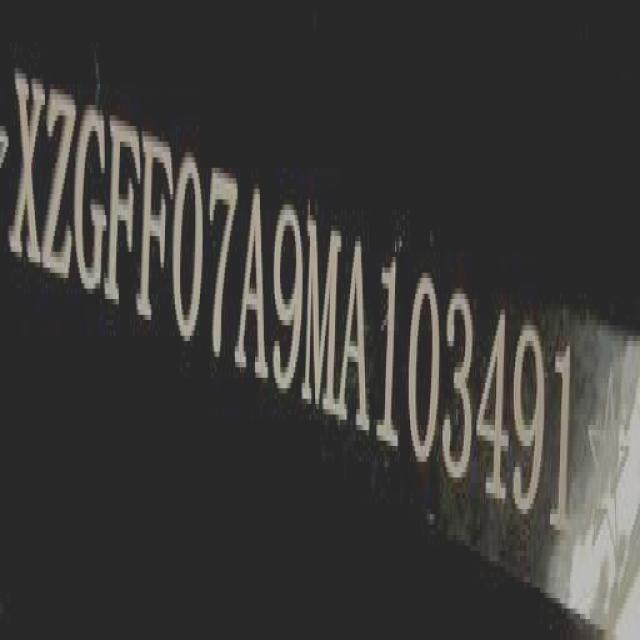0: (173, 141, 207, 356), (410, 254, 441, 476)
1: (372, 246, 404, 458), (555, 325, 575, 529)
3: (445, 272, 474, 494)
4: (477, 291, 509, 508)
7: (208, 160, 238, 378)
9: (270, 195, 304, 408), (513, 313, 546, 522)
A: (342, 222, 372, 445), (239, 170, 268, 393)
F: (107, 103, 141, 323), (141, 116, 173, 343)
G: (76, 92, 108, 310)
M: (302, 204, 340, 422)
X: (11, 58, 44, 280)
Z: (43, 71, 73, 296)
